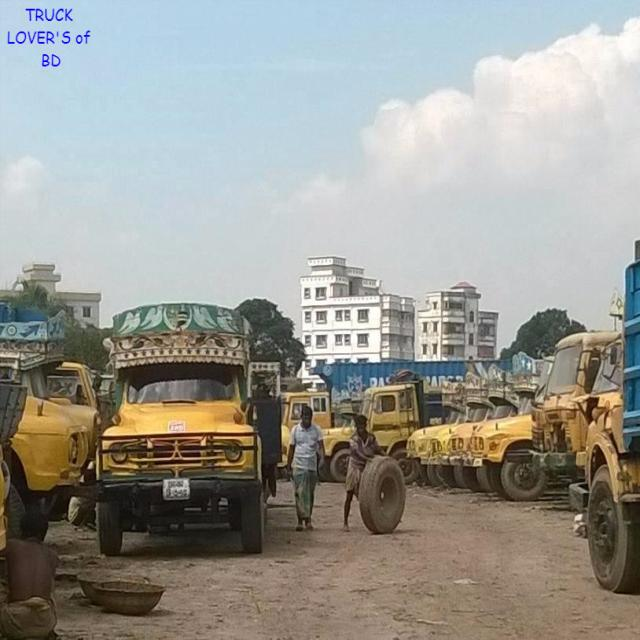truck: (94, 301, 276, 570), (0, 300, 90, 546), (586, 240, 640, 605), (540, 313, 614, 491), (481, 340, 543, 508), (361, 364, 433, 479), (456, 355, 484, 491), (427, 375, 455, 480)
